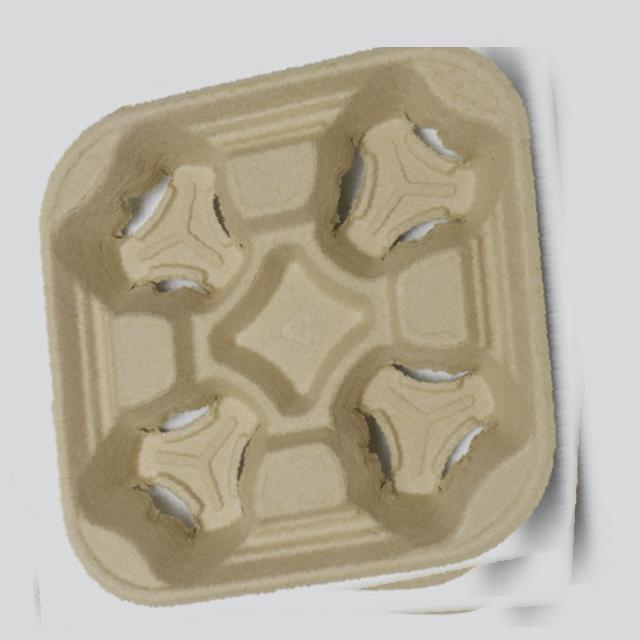biodegradable: (10, 47, 601, 639)
